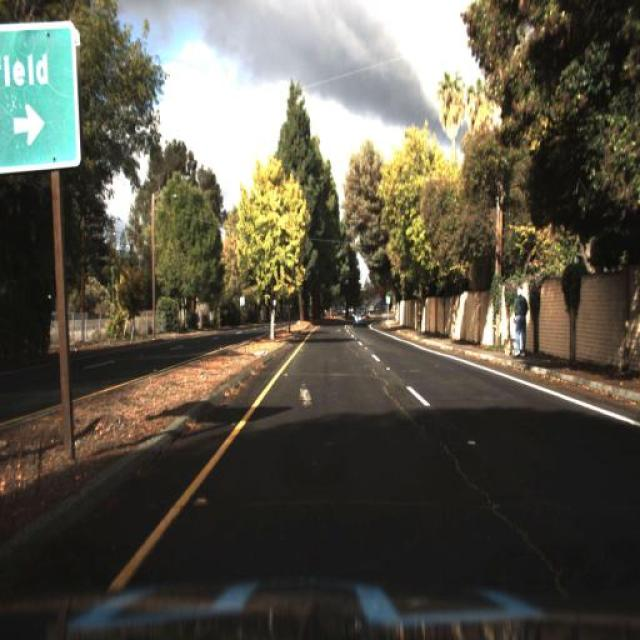car: (352, 311, 368, 328)
trafficLight: (512, 288, 528, 359)
